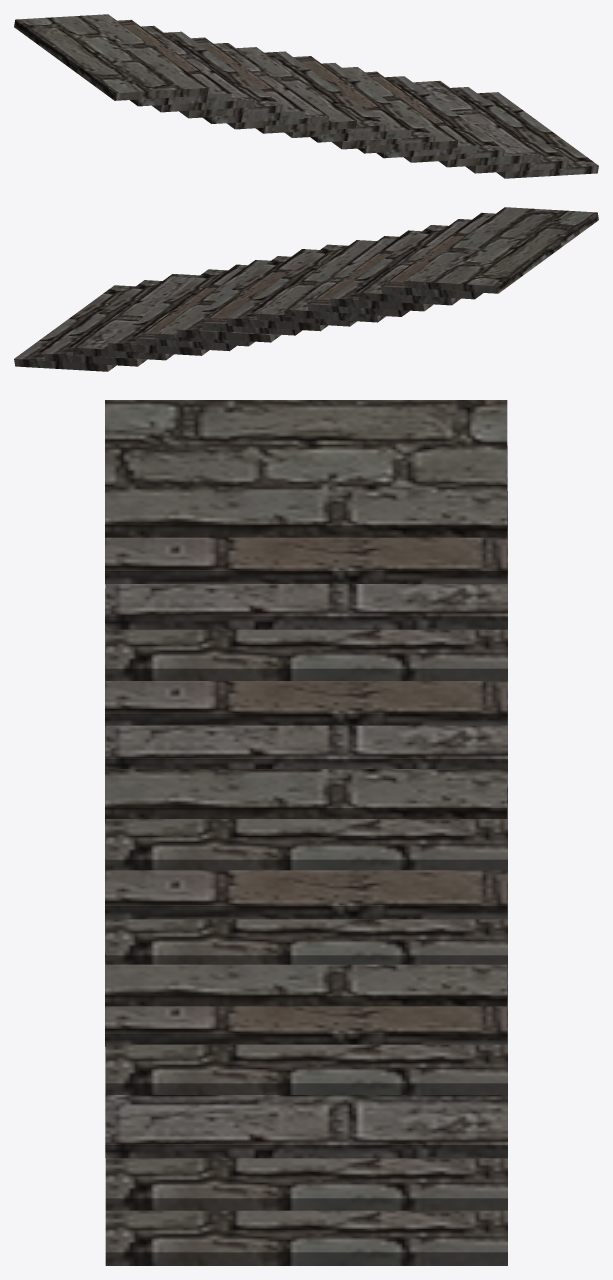
Rendered from RoofTopStone3.fbx.
3 renders of one model, top to bottom at view 1: azimuth 30°, elevation 25°; view 2: azimuth 150°, elevation 25°; view 3: azimuth 270°, elevation 25°, orthographic. The views are drawn at different scales.
Visible parts, largest first — view 1: Cube.001; view 2: Cube.001; view 3: Cube.001.
Part boxes in pixels (x1,y1,x2,y2): Cube.001: [14, 14, 598, 178]; Cube.001: [14, 207, 598, 371]; Cube.001: [105, 400, 507, 1265].
Bounding box in the file's own units: 122 × 47.69 × 44.04.
1 material, 1 textured.
